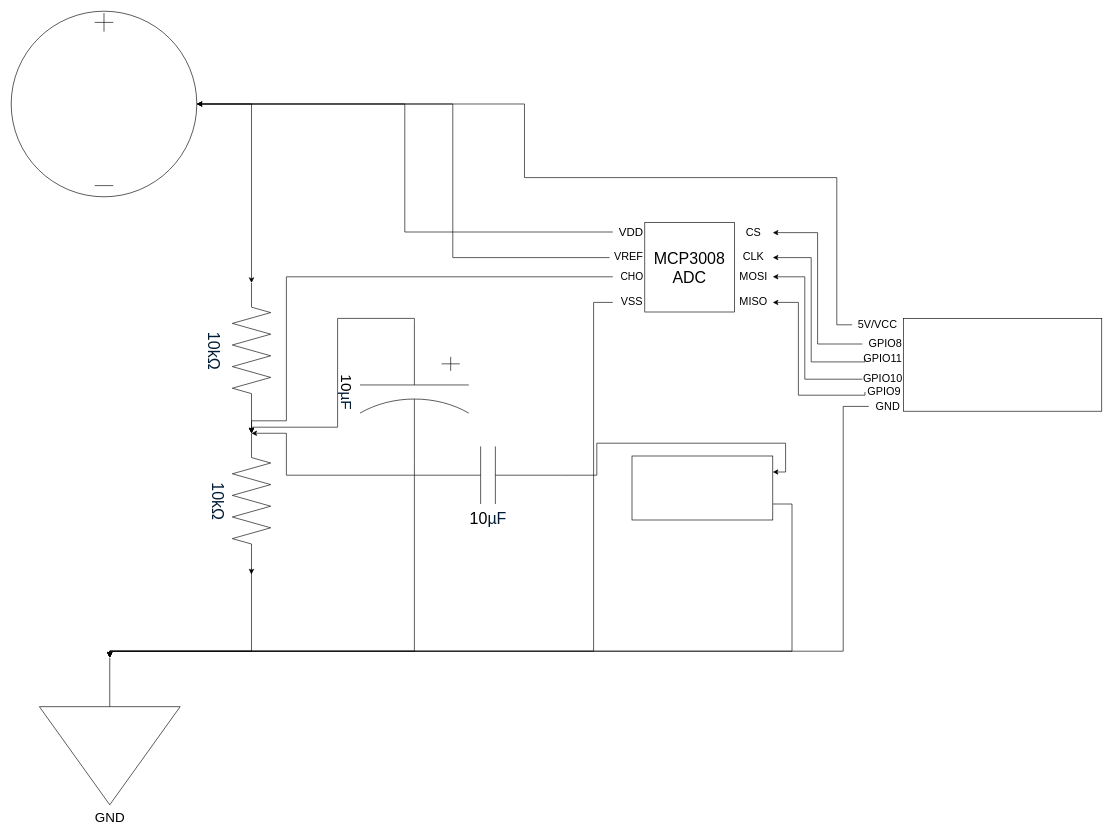
Image size: 1113x836. Some labels were removed from this diagram. The shapes that lost their labels are listed below. From the top down, each one's centre as x and y in pixels, then its label:
At point (104, 104): "vcc/5v".
At point (1002, 364): "Raspberry Pi Zero W".
At point (702, 487): "STC-013".
